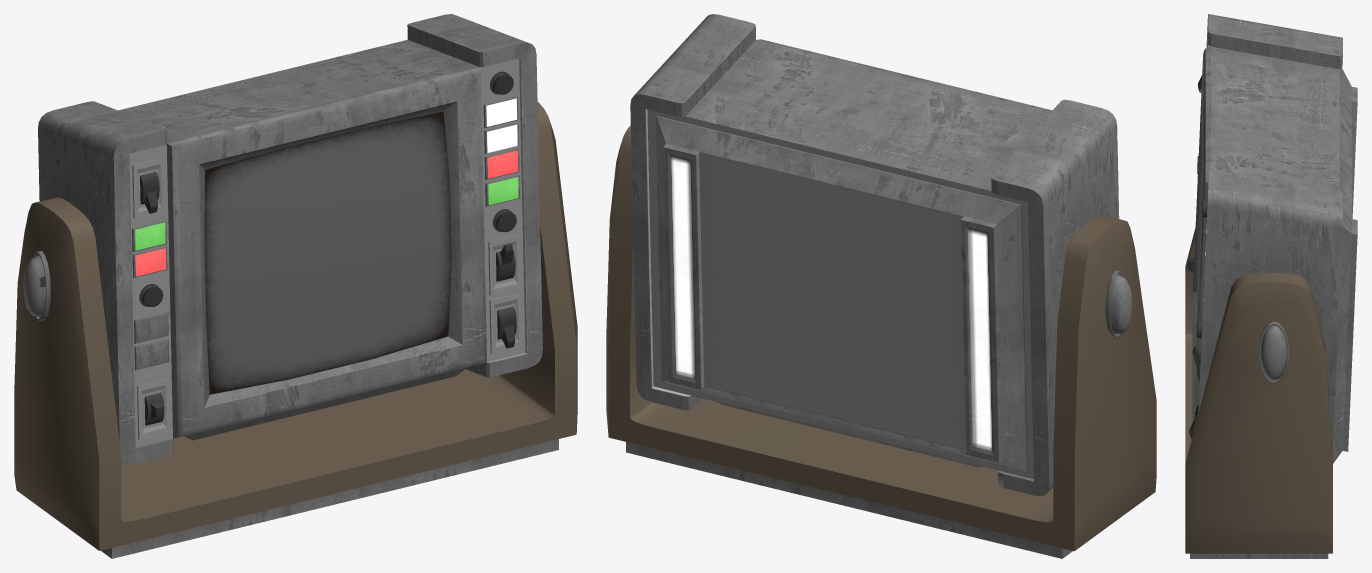
Rendered from ip_mon.glb.
The picture shows the model from 3 angles, left to right: view 1: azimuth 30°, elevation 25°; view 2: azimuth 150°, elevation 25°; view 3: azimuth 270°, elevation 25°; orthographic projection. The views are drawn at different scales.
Visible parts, largest first — view 1: O_ip_mon__Body; view 2: O_ip_mon__Body; view 3: O_ip_mon__Body.
Boxes of the visible parts, x1,y1,x2,y2 form: O_ip_mon__Body: (14, 14, 577, 558); O_ip_mon__Body: (606, 14, 1156, 558); O_ip_mon__Body: (1185, 14, 1357, 558).
Bounding box in the file's own units: 0.5613 × 0.4155 × 0.1799.
1 material, 1 textured.
